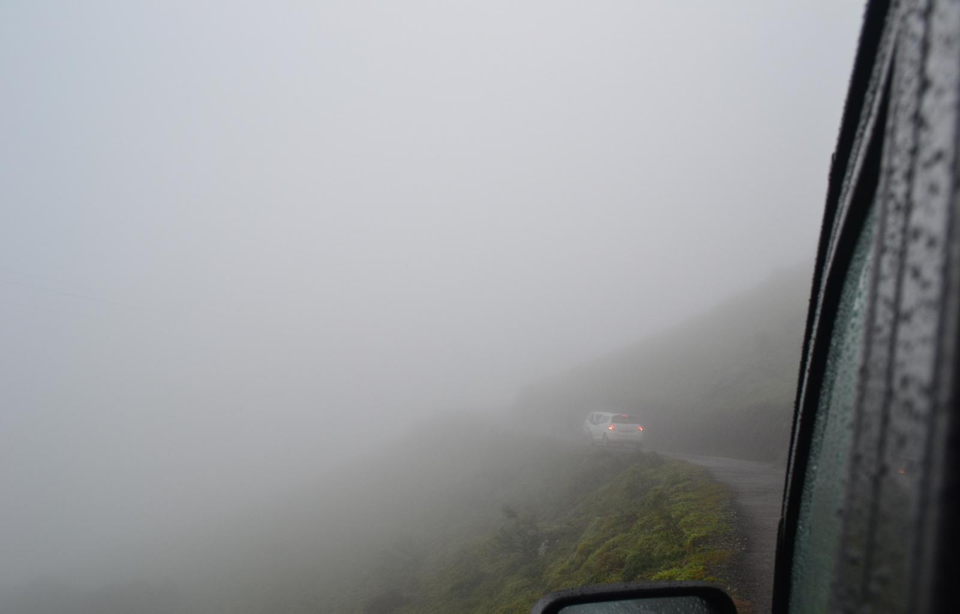car: (767, 0, 952, 609), (580, 410, 644, 445)
truck: (581, 410, 644, 445)
